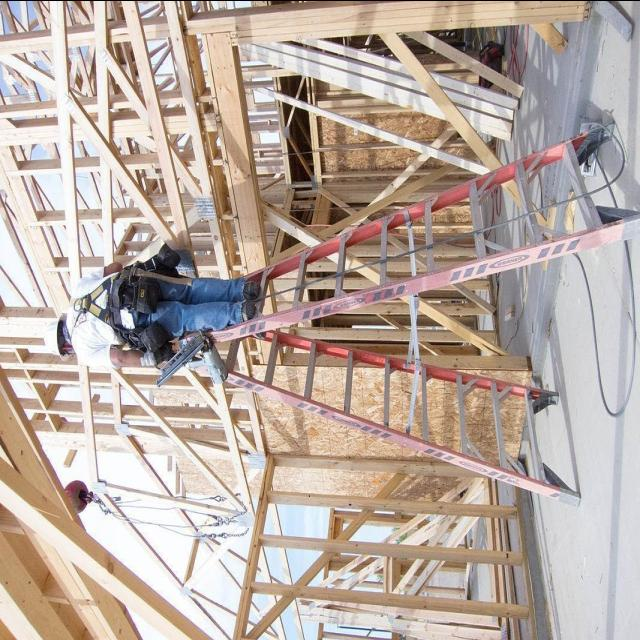helmet: (41, 313, 61, 377)
